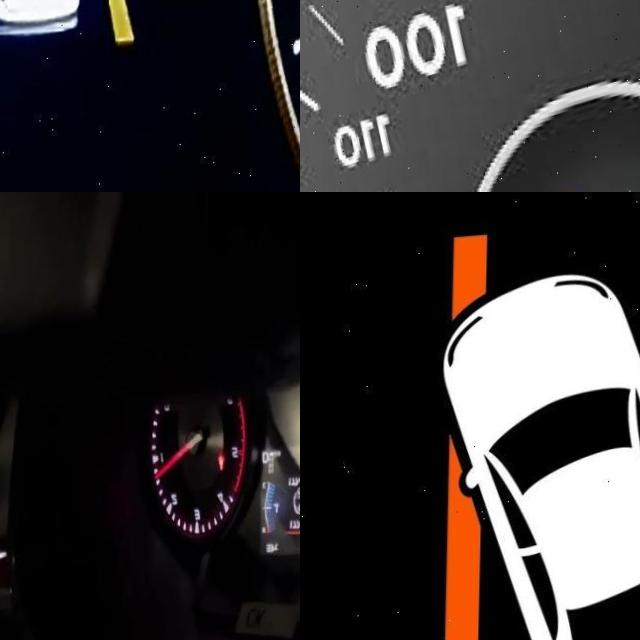Seat Belt: (219, 458, 227, 476)
